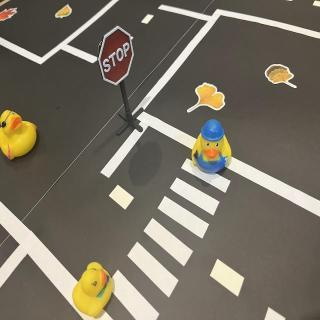duck_regular: (72, 259, 117, 320)
duck_specialty: (192, 119, 234, 177), (1, 106, 39, 162)
road_crosswalk: (106, 154, 236, 320)
sign_stop: (98, 26, 135, 86)
